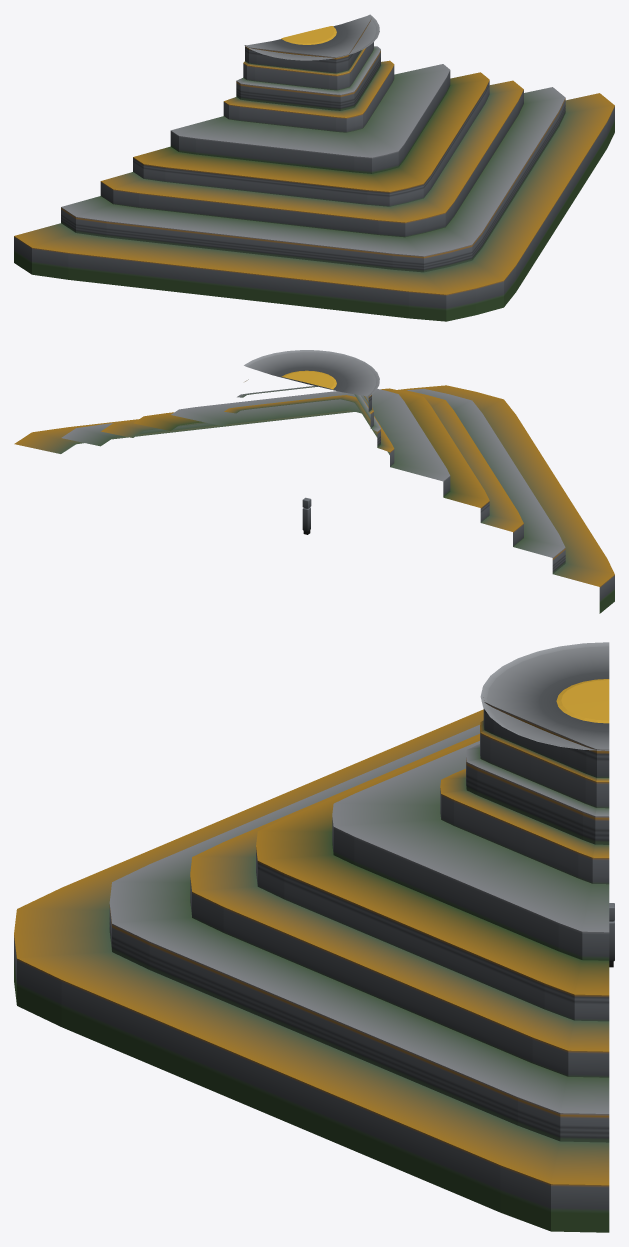
The model's file is temple-s2-BctbTw_9.glb.
3 views of the same model, one above another, from view 1: azimuth 30°, elevation 25°; view 2: azimuth 150°, elevation 25°; view 3: azimuth 270°, elevation 25° (orthographic). The views are drawn at different scales.
Visible parts, largest first — view 1: sc_landmark_1; view 2: sc_landmark_1; view 3: sc_landmark_1.
Part boxes in pixels (x1,y1,x2,y2): sc_landmark_1: (14,14,614,321); sc_landmark_1: (14,350,614,613); sc_landmark_1: (14,642,609,1232).
Bounding box in the file's own units: 758 × 200 × 383.
